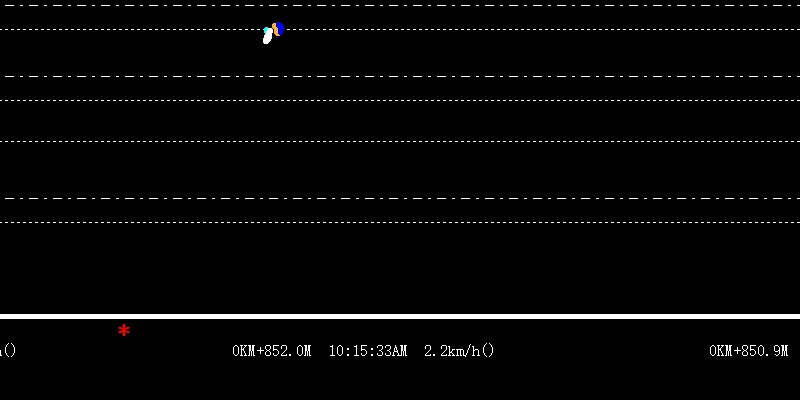face_s: (262, 25, 272, 48), (275, 21, 285, 40)
star: (116, 322, 131, 337)
